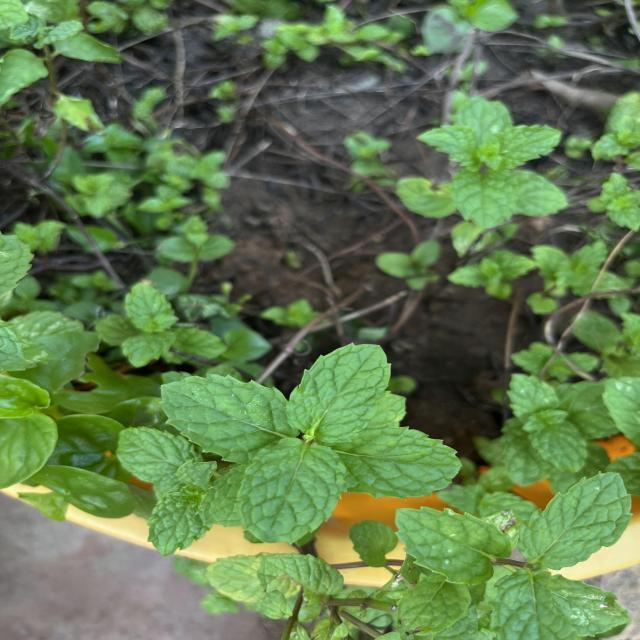Mentha spicata: (236, 436, 348, 547), (156, 372, 288, 466), (514, 469, 634, 572), (283, 341, 394, 446), (387, 503, 512, 588), (344, 425, 462, 503)
